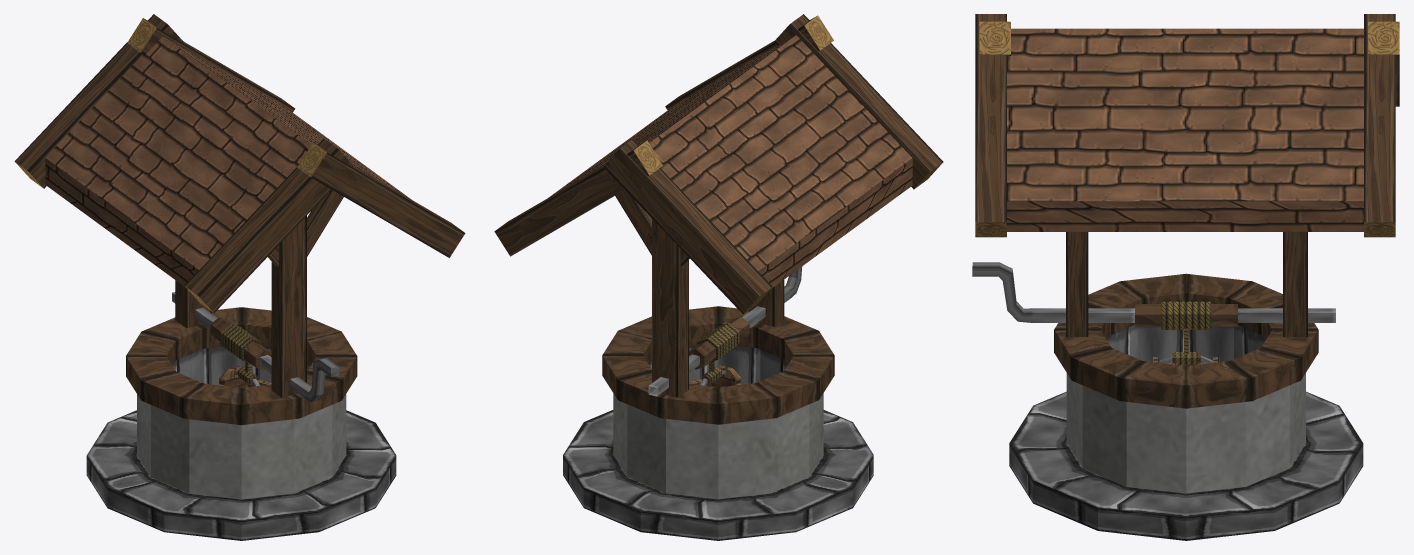
The model's file is Well.FBX.
The picture shows the model from 3 angles, left to right: view 1: azimuth 30°, elevation 25°; view 2: azimuth 150°, elevation 25°; view 3: azimuth 270°, elevation 25°; orthographic projection. The views are drawn at different scales.
Visible parts, largest first — view 1: Well; view 2: Well; view 3: Well.
Boxes of the visible parts, x1,y1,x2,y2 form: Well: [14, 14, 465, 540]; Well: [494, 14, 943, 540]; Well: [972, 14, 1399, 540].
Size of the model in its own units: 115 by 138 by 160.
